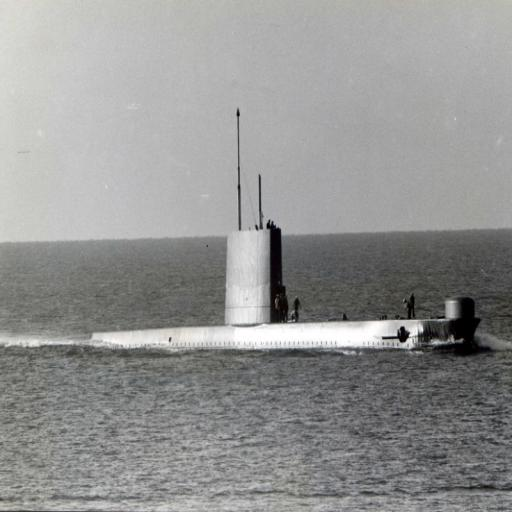submarine: (95, 106, 479, 345)
